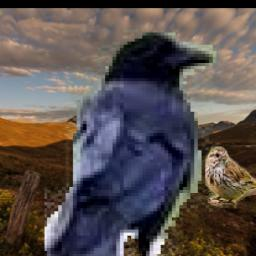Crow: (45, 29, 220, 256)
Sparrow: (204, 147, 256, 209)
